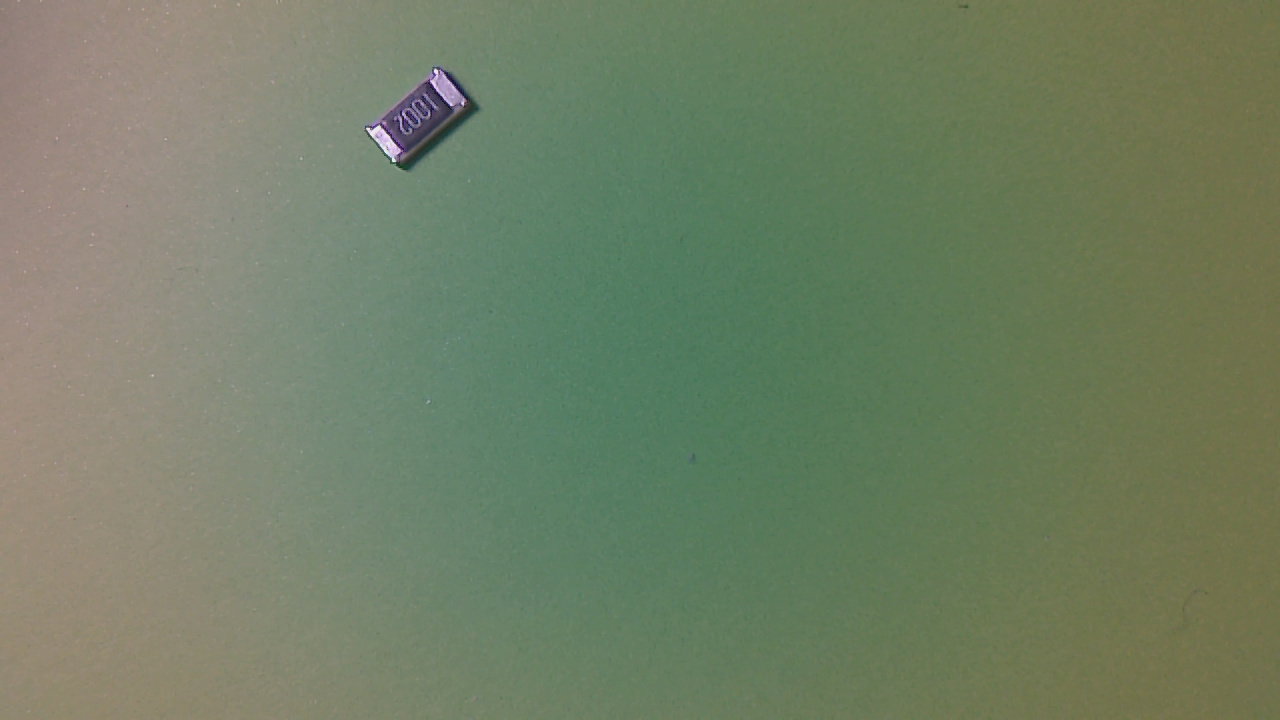Resistor: (367, 71, 481, 176)
